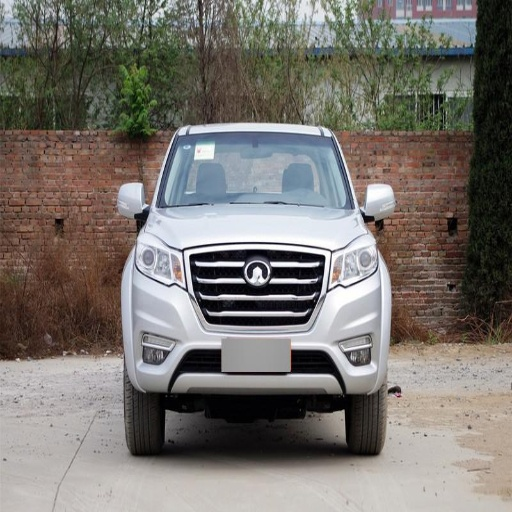front_bumper: (124, 246, 387, 394)
front_right_light: (135, 237, 183, 284)
hood: (146, 204, 365, 250)
